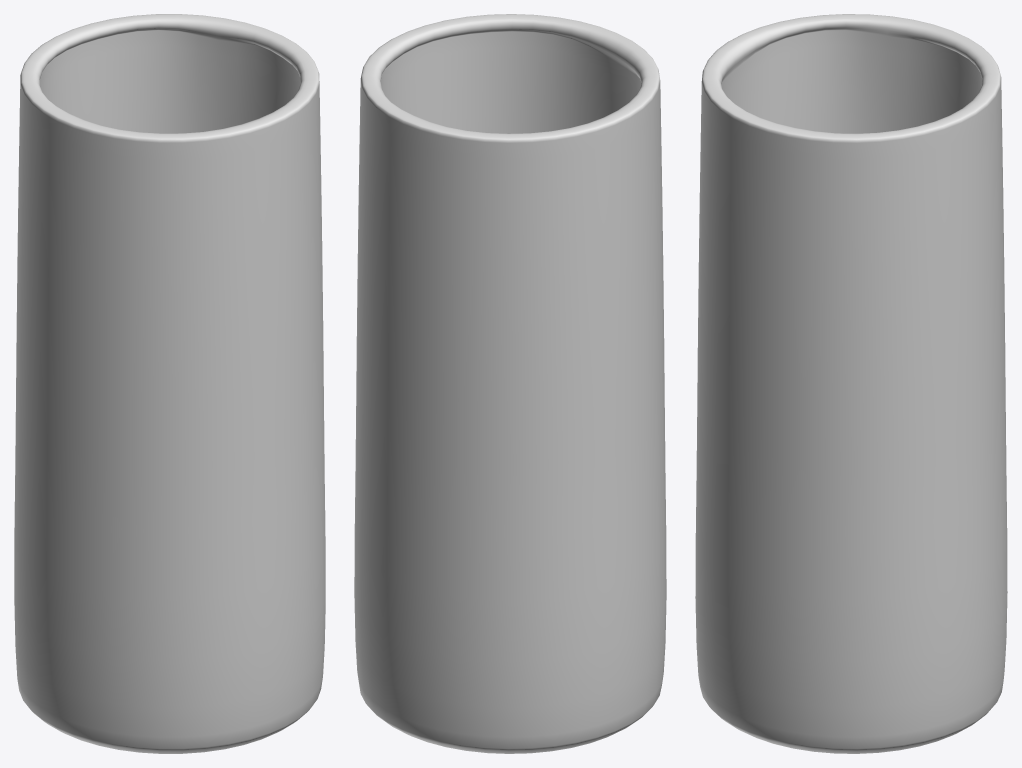
Rendered from B07QHL2D4B.glb.
The picture shows the model from 3 angles, left to right: view 1: azimuth 30°, elevation 25°; view 2: azimuth 150°, elevation 25°; view 3: azimuth 270°, elevation 25°; orthographic projection.
Visible parts, largest first — view 1: RootNode; view 2: RootNode; view 3: RootNode.
Boxes of the visible parts, x1,y1,x2,y2 form: RootNode: (14, 14, 325, 753); RootNode: (354, 14, 666, 753); RootNode: (695, 14, 1007, 753).
Size of the model in its own units: 0.1433 by 0.3156 by 0.1433.
1 material, 1 textured.
